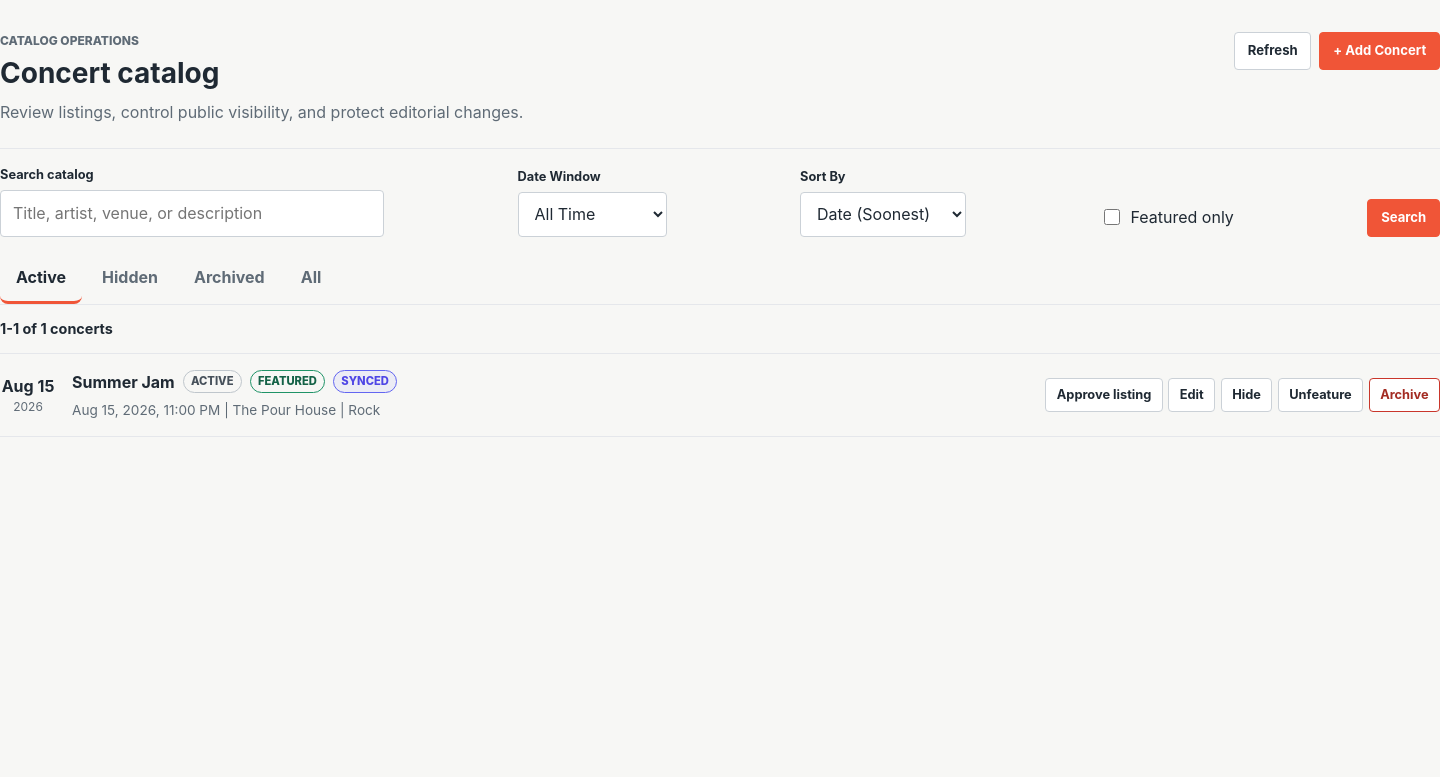
Test: AdminConcertsPage › displays the resolved poster preview in the edit modal
This screenshot has width=1440, height=777.
What coordinates should you click on to do the following:
click the button "Edit"
I would click on:
 (1192, 395)
Its box is left=1168, top=378, right=1215, bottom=412.
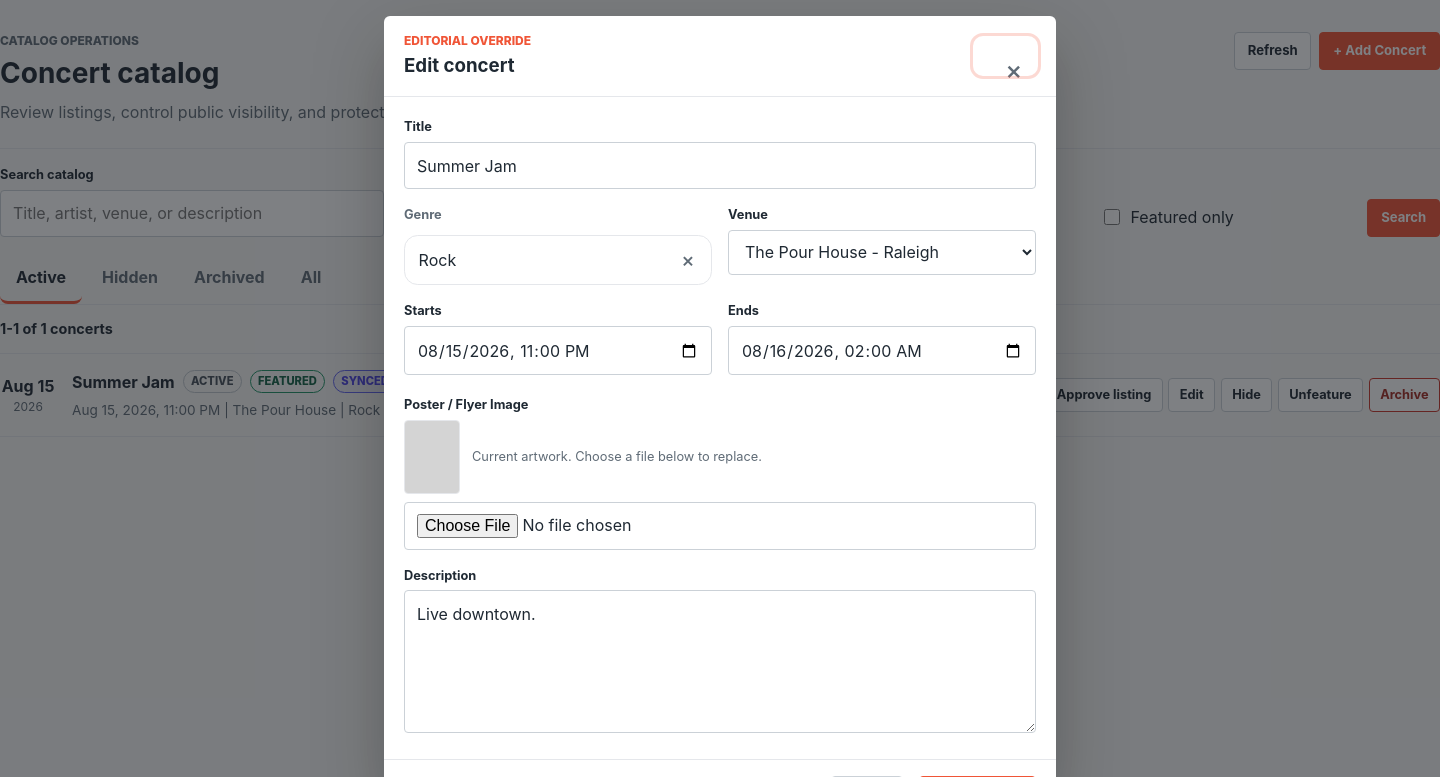
Now the element showing "Current artwork. Choose a file below to replace." is shown, box left=404, top=420, right=762, bottom=494
